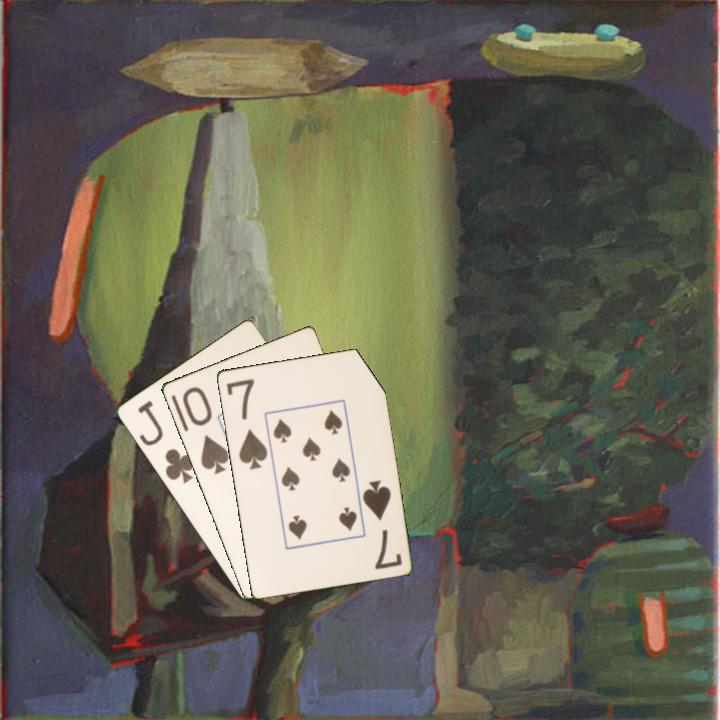10s: (178, 383, 232, 477)
7s: (222, 375, 270, 473), (359, 476, 405, 572)
Jc: (133, 397, 198, 486)
